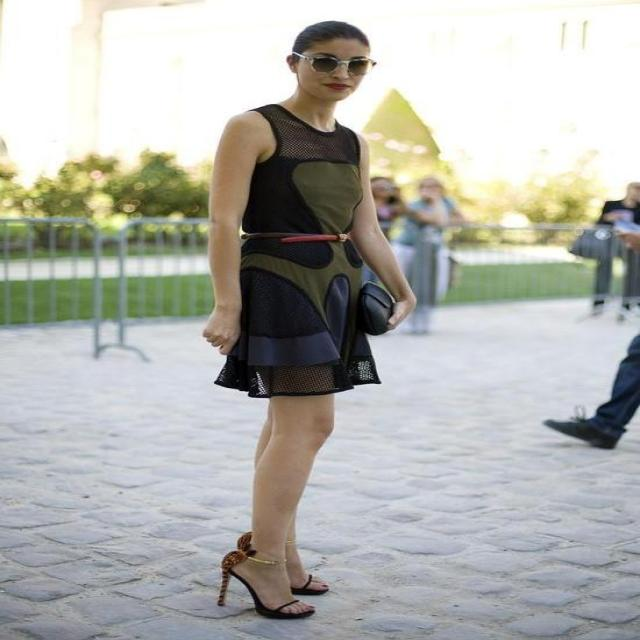dress: (213, 102, 383, 394)
